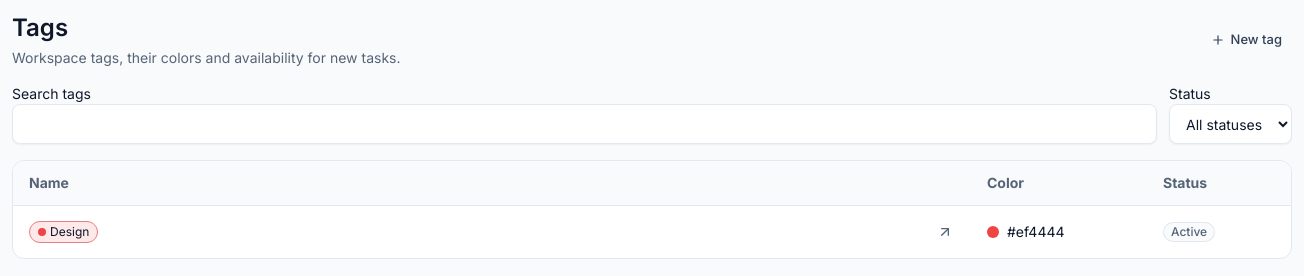
Test: tag catalog and settings › archives and restores directly in the status cell with revision guards
Click the button with aria-label "Edit status for Design": (1219,232) x1=1155 y1=214 x2=1283 y2=250
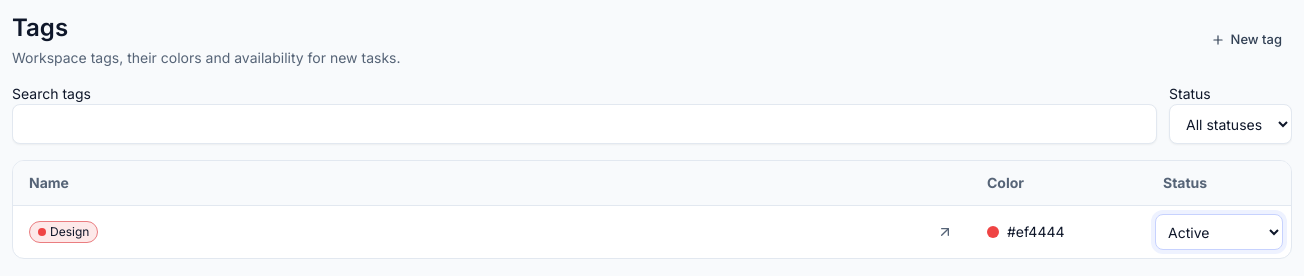
Expected: the cell named "Edit status for Design" is shown, x1=1147 y1=206 x2=1291 y2=258
Select "Archived" in the dropdown named "Status": (1219,232) x1=1155 y1=214 x2=1283 y2=250
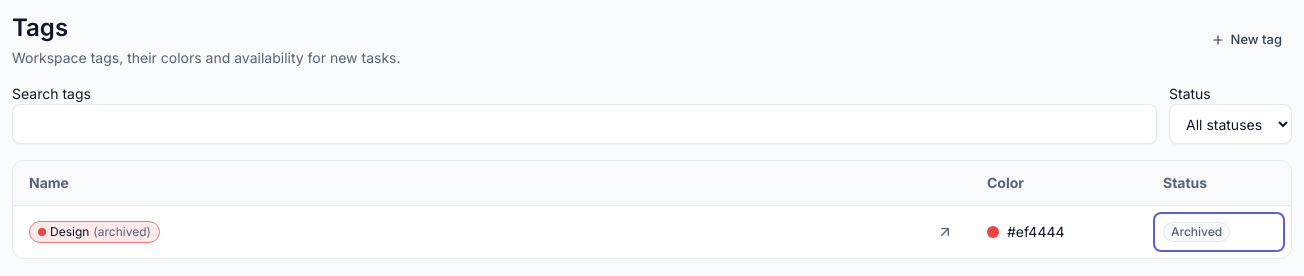
Expected: the form is gone
Expected: the text "Archived" is shown, x1=1163 y1=222 x2=1230 y2=242
Click the button with aria-label "Edit status for Design": (1219,232) x1=1155 y1=214 x2=1283 y2=250
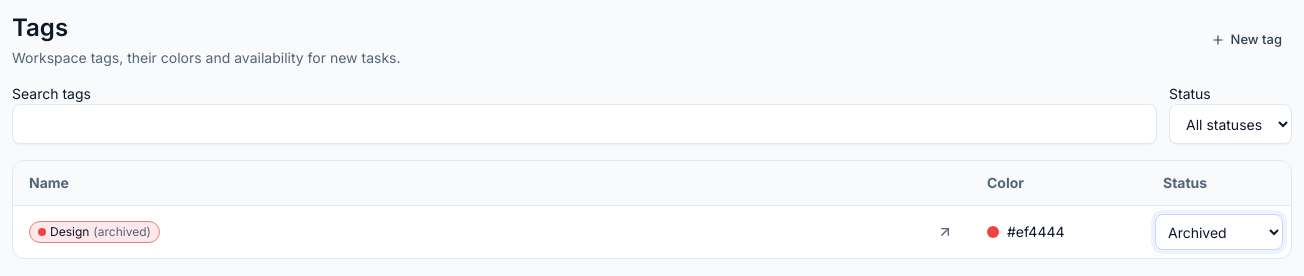
Expected: the cell named "Edit status for Design" is shown, x1=1147 y1=206 x2=1291 y2=258
Select "Active" in the dropdown named "Status": (1219,232) x1=1155 y1=214 x2=1283 y2=250
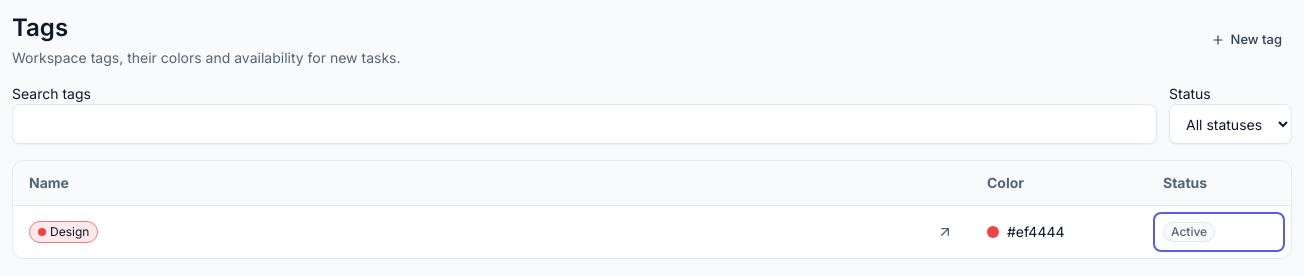
Expected: the form is gone
Expected: the text "Active" is shown, x1=1163 y1=222 x2=1215 y2=242
